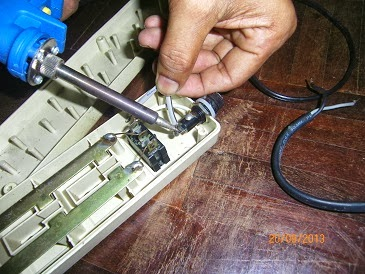Three_eye_plug: (1, 83, 225, 274)
